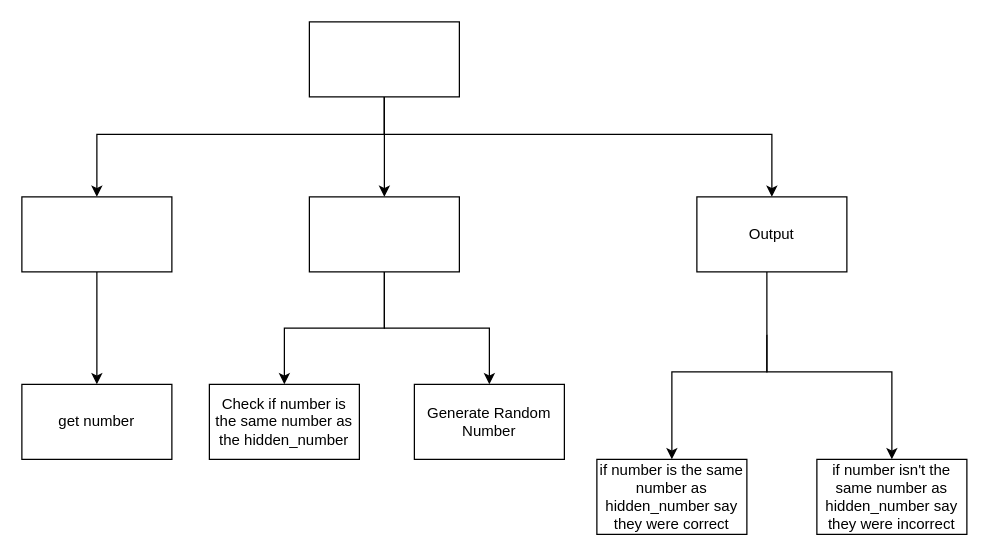
Image size: 989x556. Some labels were removed from this diagram. Here are the shapes that lost their labels. From the top down, the centre of each, then its label:
At point 383,59: "Number Guess Program".
At point 96,234: "Input".
At point 383,234: "Process".
